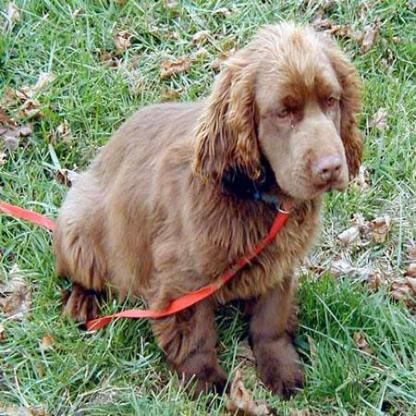Sussex_spaniel: (50, 22, 367, 393)
